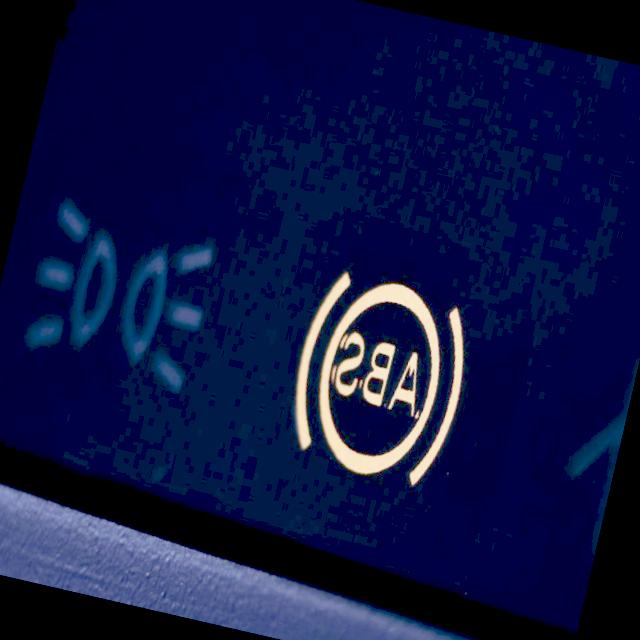kontrolka: (266, 250, 499, 507)
